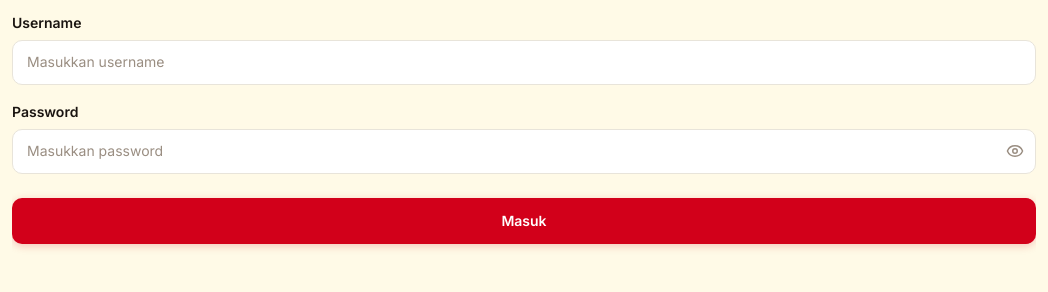
it: LoginForm › shows error for empty password
This screenshot has width=1048, height=292.
Type "admin" into the field labelled "Username" at [524, 63], box [12, 40, 1036, 85]
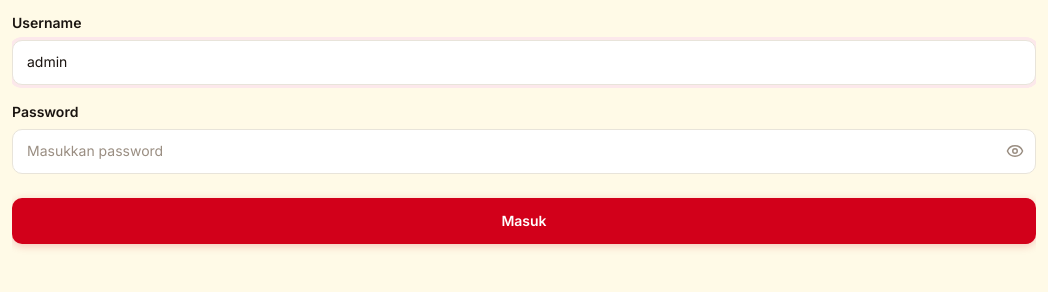
Click the button "Masuk" at [524, 221], box [12, 198, 1036, 244]
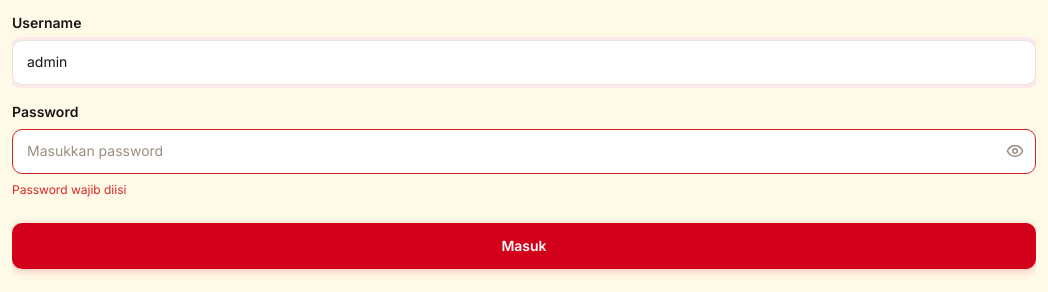
Expected: the text "Password wajib diisi" is shown, [12, 182, 126, 197]
